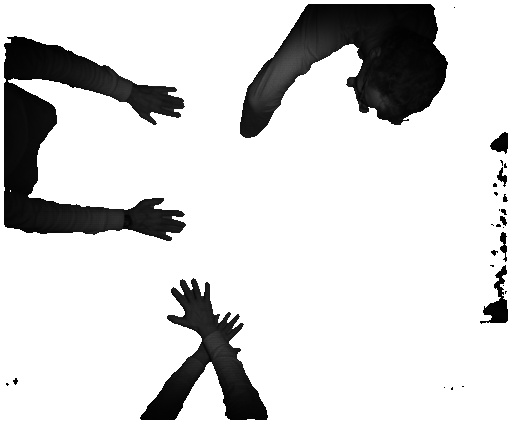hand: (160, 272, 218, 335), (128, 192, 191, 247), (133, 86, 191, 127)
